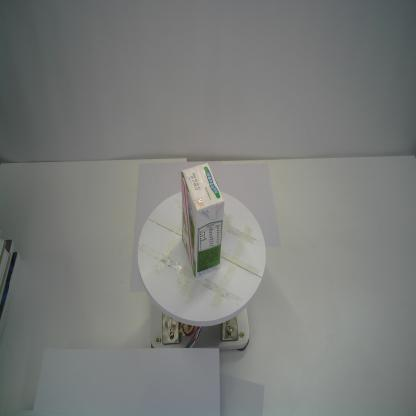Milk: (180, 161, 225, 280)
